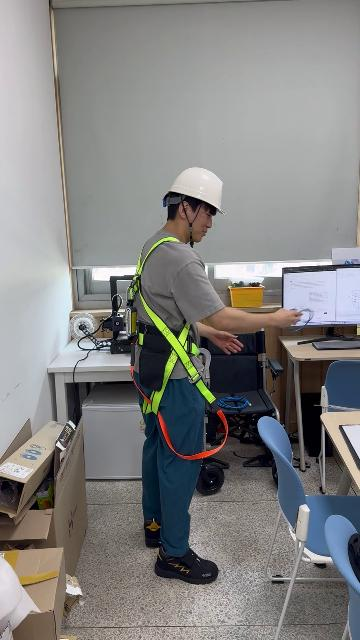helmet_worn: (163, 166, 228, 217)
shoe_worn: (155, 544, 219, 584), (143, 518, 161, 548)
vest_worn: (127, 242, 227, 448)
